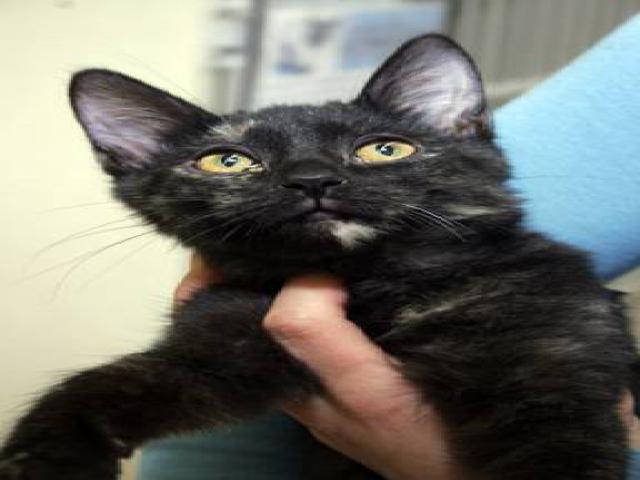cat: (34, 34, 639, 475)
